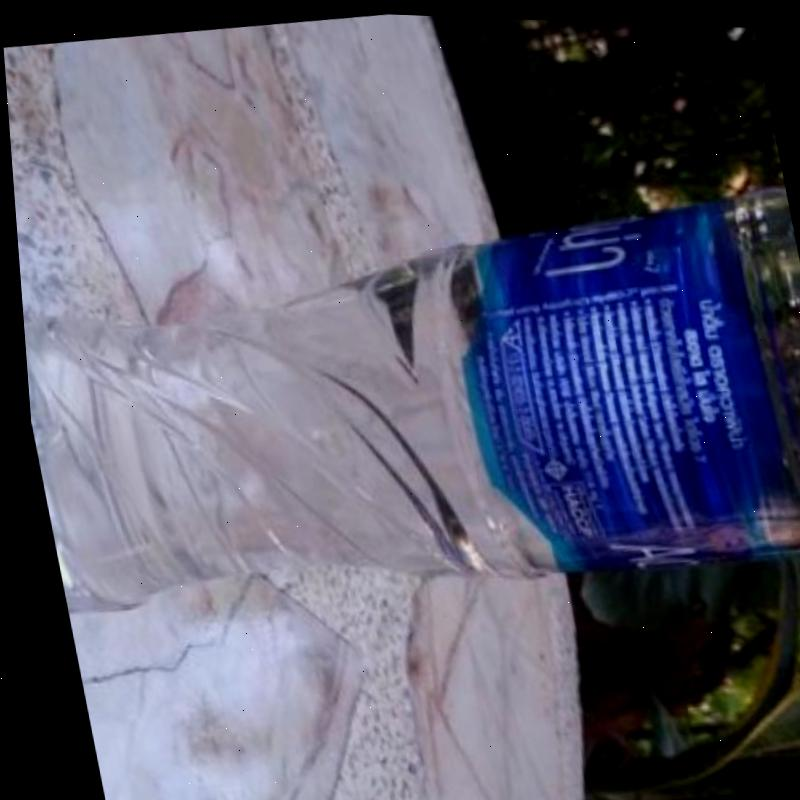botella: (9, 153, 800, 636)
